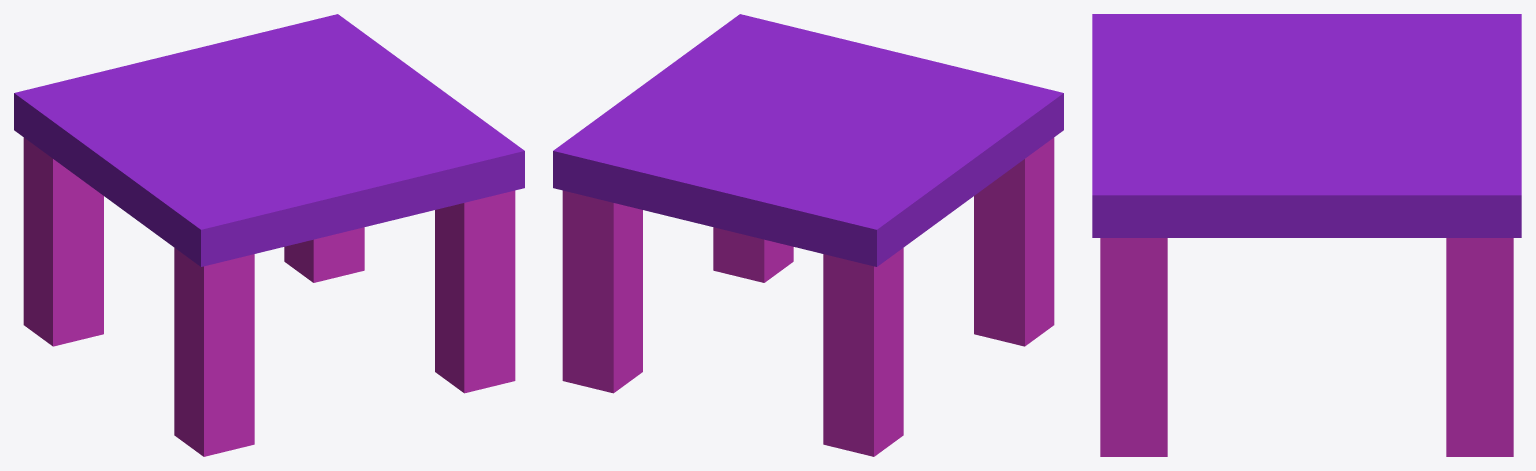
3 views of the same model, side by side, from view 1: azimuth 30°, elevation 25°; view 2: azimuth 150°, elevation 25°; view 3: azimuth 270°, elevation 25° (orthographic). The views are drawn at different scales.
Parts seen in each view (by area): view 1: Cube.001; view 2: Cube.001; view 3: Cube.001.
Boxes of the visible parts, bbox=[...] form: Cube.001: bbox=[14, 14, 524, 456]; Cube.001: bbox=[553, 14, 1063, 456]; Cube.001: bbox=[1092, 14, 1521, 456].
Bounding box in the file's own units: 2 × 1.36 × 2.
